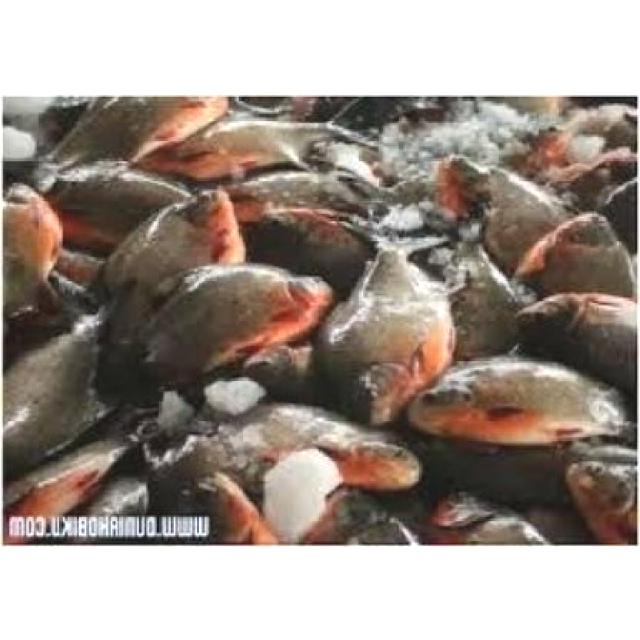ikan-pacu: (150, 263, 330, 380), (324, 243, 448, 409), (410, 354, 626, 443)
